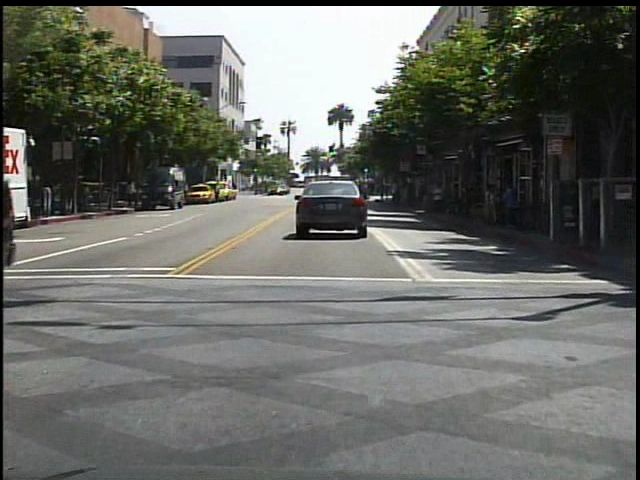person: (429, 180, 449, 219)
